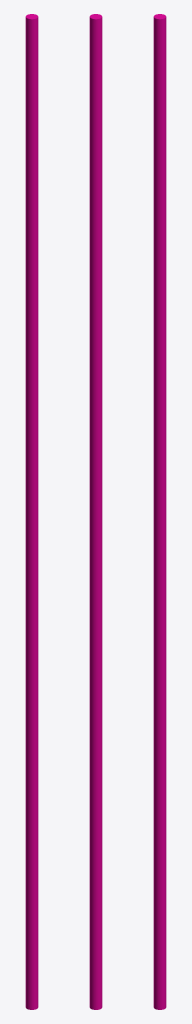
The picture shows the model from 3 angles, left to right: view 1: azimuth 90°, elevation 25°; view 2: azimuth 210°, elevation 25°; view 3: azimuth 270°, elevation 25°; orthographic projection.
Visible parts, largest first — view 1: Циліндр.002; view 2: Циліндр.002; view 3: Циліндр.002.
Boxes of the visible parts, box(x1,y1,x2,y2) form: Циліндр.002: box(25, 14, 38, 1009); Циліндр.002: box(89, 14, 102, 1009); Циліндр.002: box(153, 14, 166, 1009).
Bounding box in the file's own units: 0.0964 × 8.49 × 0.0964.
